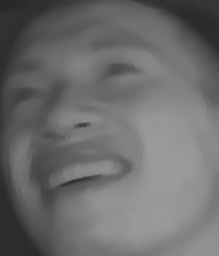eye: (97, 57, 140, 84), (4, 82, 45, 109)
mouth: (32, 142, 131, 202)
